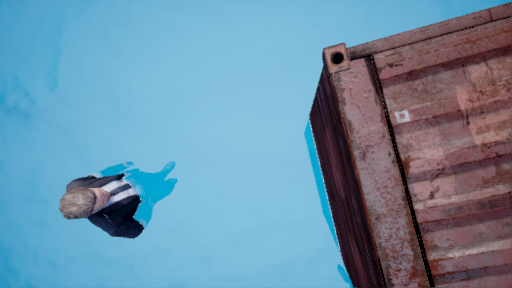person: (59, 155, 175, 238)
